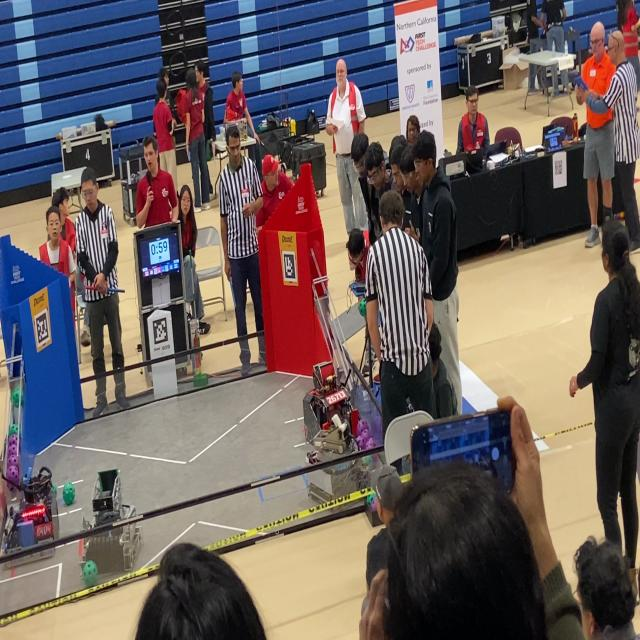artifact_green: (82, 561, 99, 588), (63, 482, 75, 505), (11, 388, 23, 407), (359, 298, 366, 317), (9, 424, 19, 436), (370, 496, 378, 511), (367, 493, 375, 506), (363, 456, 372, 466), (51, 485, 56, 495), (20, 425, 22, 440)
artifact_purple: (371, 415, 383, 443), (6, 466, 19, 485), (357, 420, 368, 435), (373, 415, 382, 430), (357, 435, 365, 449), (366, 438, 376, 449), (8, 456, 18, 467), (8, 444, 18, 455), (362, 429, 371, 441), (8, 435, 18, 445), (371, 497, 377, 511)
